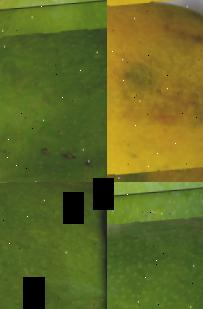Ripe: (107, 0, 203, 182)
Unripe: (0, 0, 107, 182), (0, 182, 107, 309), (107, 182, 203, 309)
